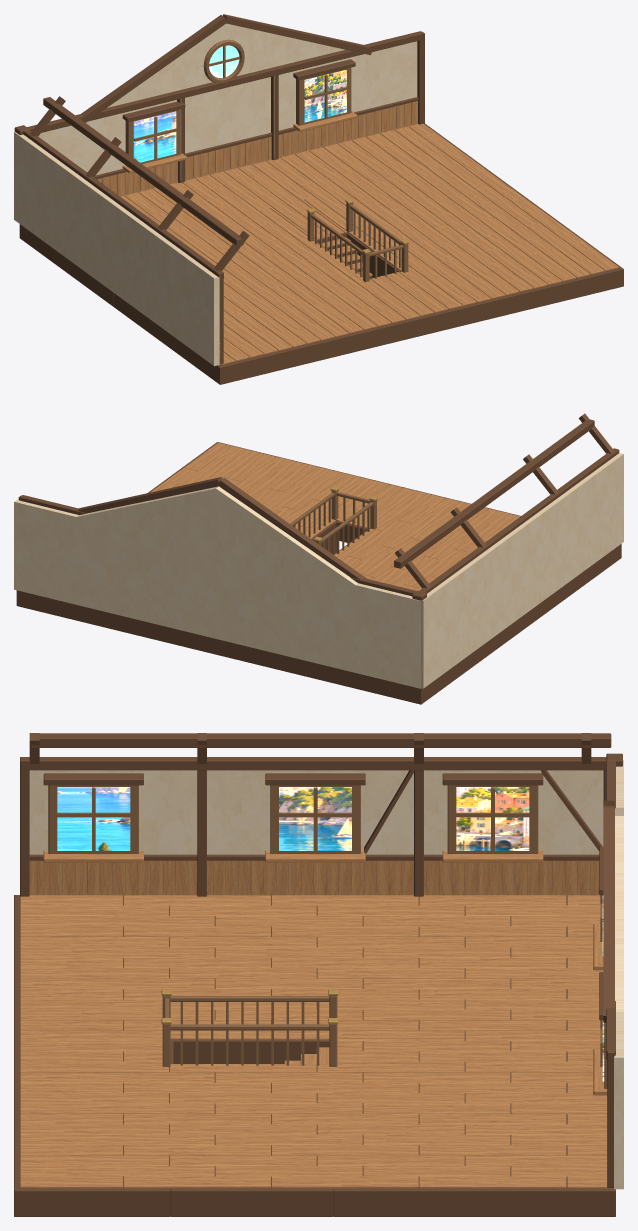
3 renders of one model, top to bottom at view 1: azimuth 30°, elevation 25°; view 2: azimuth 150°, elevation 25°; view 3: azimuth 270°, elevation 25°, orthographic. The views are drawn at different scales.
Parts seen in each view (by area): view 1: Staggered honey floorboards, West plaster, North plaster, Floor structure front, North wainscot, Gable plaster, North top plate, Purlin, Gable rafter, West top plate, Gable window glass, Dormer glass (+14 smaller); view 2: North plaster, West plaster, Staggered honey floorboards, Gable plaster, Floor structure rear, Purlin, West top plate, Gable rafter, Floor structure front, Gable rafter.001, North top plate, Floor structure west; view 3: Staggered honey floorboards, West plaster, West wainscot, Floor structure rear, Purlin, West top plate, Floor structure front, Floor structure east, Street window 0 glass, Street window 1 glass, Street window 2 glass, Stairwell side west (+21 smaller).
Part boxes in pixels (box(x1,y1,x2,y2)): Staggered honey floorboards: box(120, 124, 618, 364); West plaster: box(14, 132, 219, 366); North plaster: box(38, 41, 417, 175); Floor structure front: box(168, 231, 623, 384); North wainscot: box(97, 101, 417, 196); Gable plaster: box(107, 23, 344, 107); North top plate: box(27, 31, 423, 132); Purlin: box(43, 97, 243, 246); Gable rafter: box(80, 15, 227, 122); West top plate: box(23, 129, 223, 278); Gable window glass: box(133, 111, 176, 162); Dormer glass: box(304, 70, 346, 122); North plaster: box(14, 499, 421, 688); West plaster: box(422, 453, 623, 688); Staggered honey floorboards: box(150, 442, 520, 590); Gable plaster: box(77, 486, 357, 584); Floor structure rear: box(16, 590, 515, 704); Purlin: box(394, 419, 594, 568); West top plate: box(419, 448, 619, 593); Gable rafter: box(219, 477, 366, 579); Floor structure front: box(166, 442, 621, 595); Gable rafter.001: box(77, 477, 222, 513); North top plate: box(19, 495, 416, 596); Floor structure west: box(515, 582, 569, 635); Staggered honey floorboards: box(20, 895, 610, 1188); West plaster: box(29, 770, 603, 854); West wainscot: box(29, 860, 599, 895); Floor structure rear: box(333, 895, 615, 1216); Purlin: box(29, 733, 611, 747); West top plate: box(20, 757, 606, 770); Floor structure front: box(14, 895, 170, 1216); Floor structure east: box(170, 1066, 333, 1216); Street window 0 glass: box(57, 787, 130, 850); Street window 1 glass: box(279, 787, 351, 850); Street window 2 glass: box(456, 787, 529, 850); Stairwell side west: box(170, 1040, 329, 1063).
Bounding box in the file's own units: 14.36 × 6.96 × 12.38.
9 materials, 4 textured.
